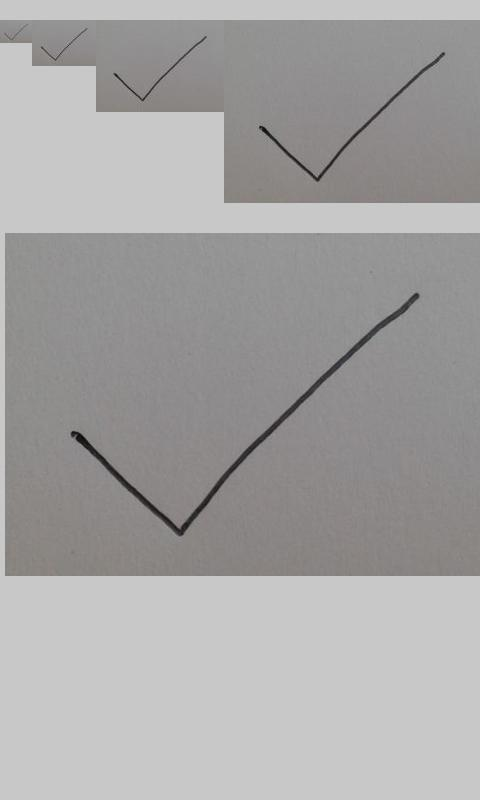check_box: (68, 292, 420, 537), (259, 52, 445, 182), (114, 36, 207, 102), (41, 28, 87, 61), (4, 24, 27, 41)
